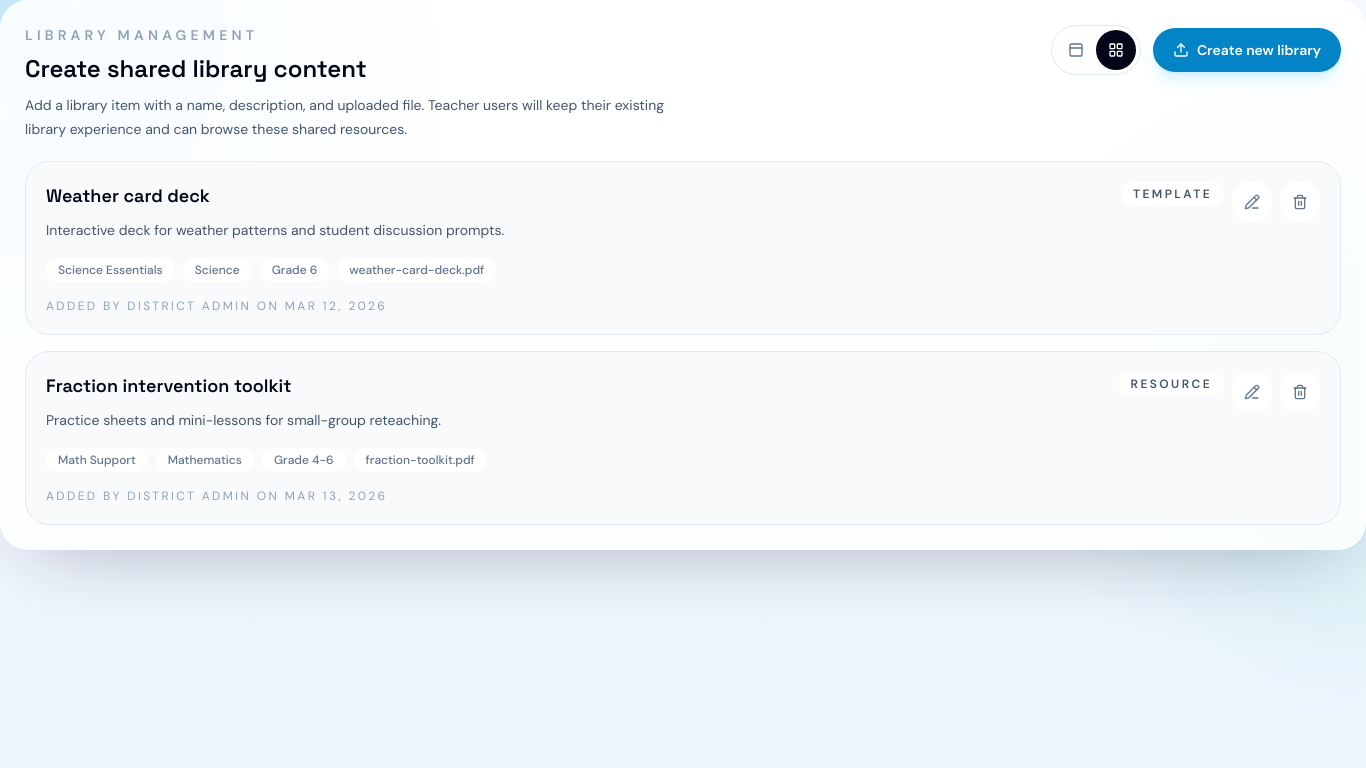
ui components › deletes an admin library item from the library module
The width and height of the screenshot is (1366, 768).
Click the button named "delete weather card deck" at [1300, 202], box x1=1280 y1=182 x2=1320 y2=222
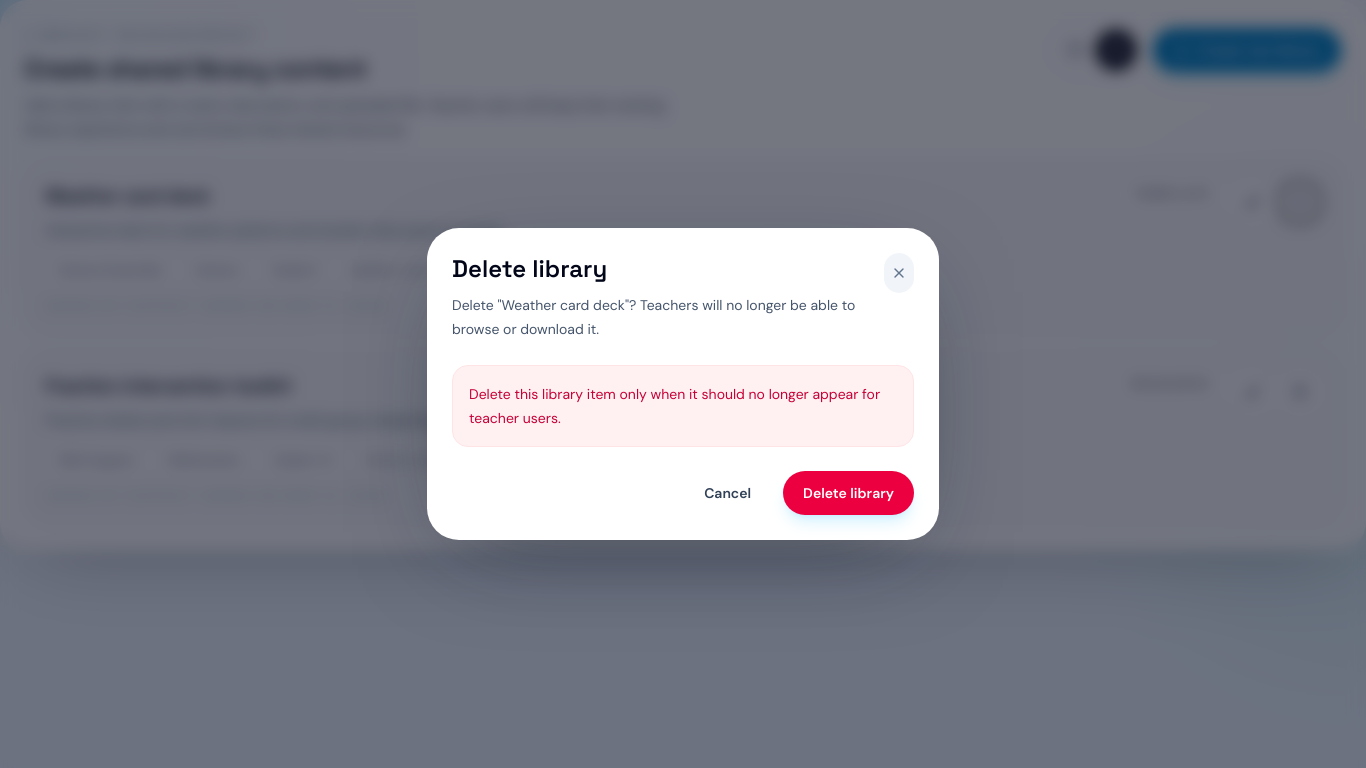
Click the button "Delete library" at [849, 493], box x1=783 y1=471 x2=914 y2=515
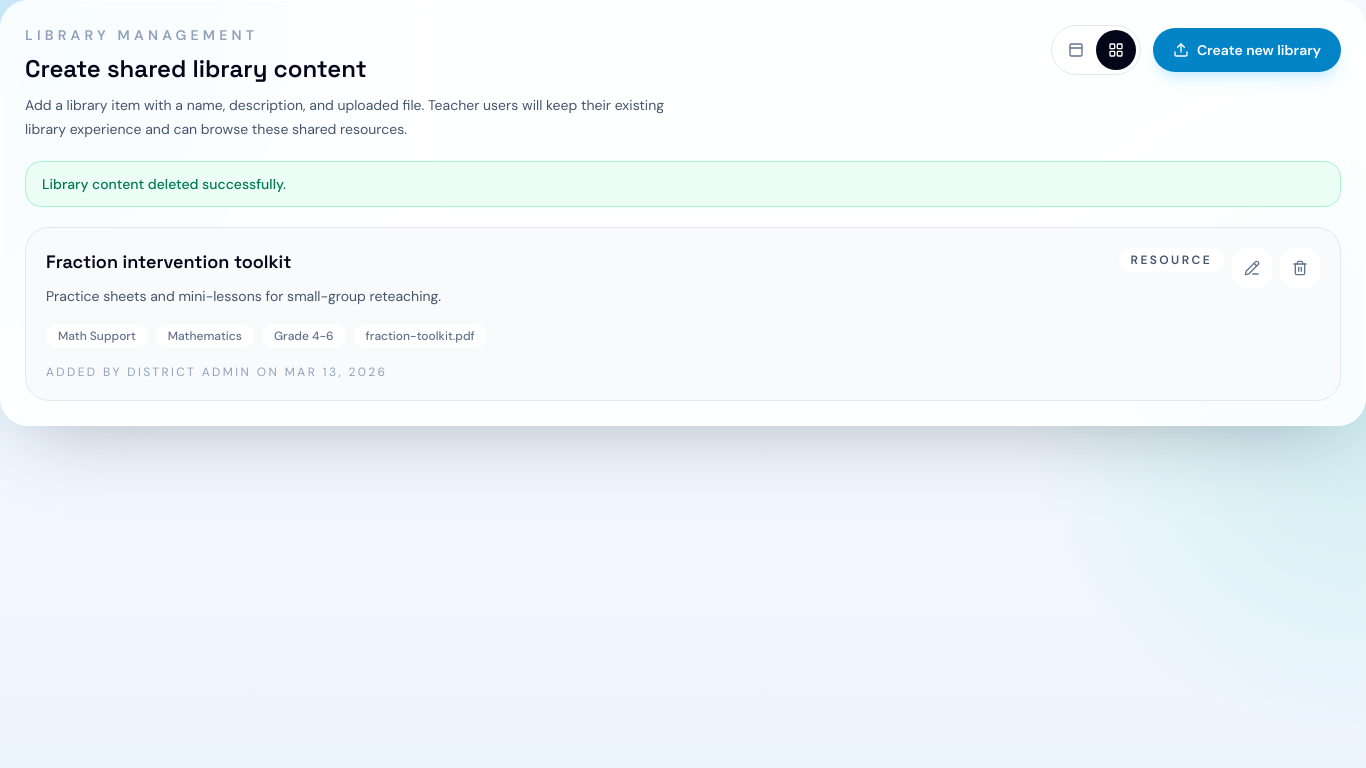
Expected: the text "Library content deleted successfully." is shown, x1=25 y1=161 x2=1341 y2=207
Expected: the heading "Weather card deck" is gone
